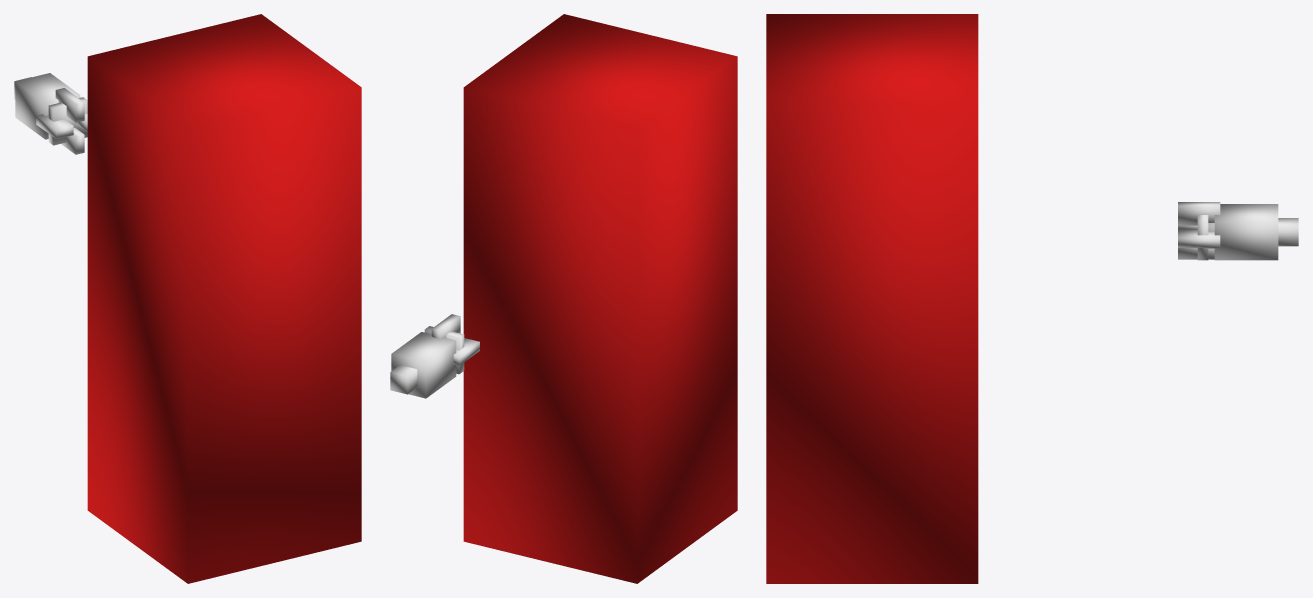
Rendered from missile.fbx.
3 renders of one model, left to right at view 1: azimuth 30°, elevation 25°; view 2: azimuth 150°, elevation 25°; view 3: azimuth 270°, elevation 25°, orthographic. The views are drawn at different scales.
Parts seen in each view (by area): view 1: Cubo, Cubo.4, Cubo.3, Cubo.5, Cubo.8; view 2: Cubo, Cubo.4, Cubo.1, Cubo.5; view 3: Cubo, Cubo.4, Cubo.5, Cubo.7.
Boxes of the visible parts, left/top/right/bottom form: Cubo: left=87, top=14, right=361, bottom=583; Cubo.4: left=15, top=73, right=80, bottom=139; Cubo.3: left=48, top=97, right=87, bottom=145; Cubo.5: left=55, top=88, right=84, bottom=122; Cubo.8: left=36, top=114, right=73, bottom=139; Cubo: left=463, top=14, right=737, bottom=583; Cubo.4: left=391, top=332, right=456, bottom=398; Cubo.1: left=390, top=365, right=417, bottom=394; Cubo.5: left=431, top=314, right=460, bottom=338; Cubo: left=766, top=14, right=978, bottom=583; Cubo.4: left=1214, top=204, right=1278, bottom=260; Cubo.5: left=1178, top=202, right=1220, bottom=225; Cubo.7: left=1178, top=229, right=1220, bottom=247.
Bounding box in the file's own units: 100 × 250 × 251.
